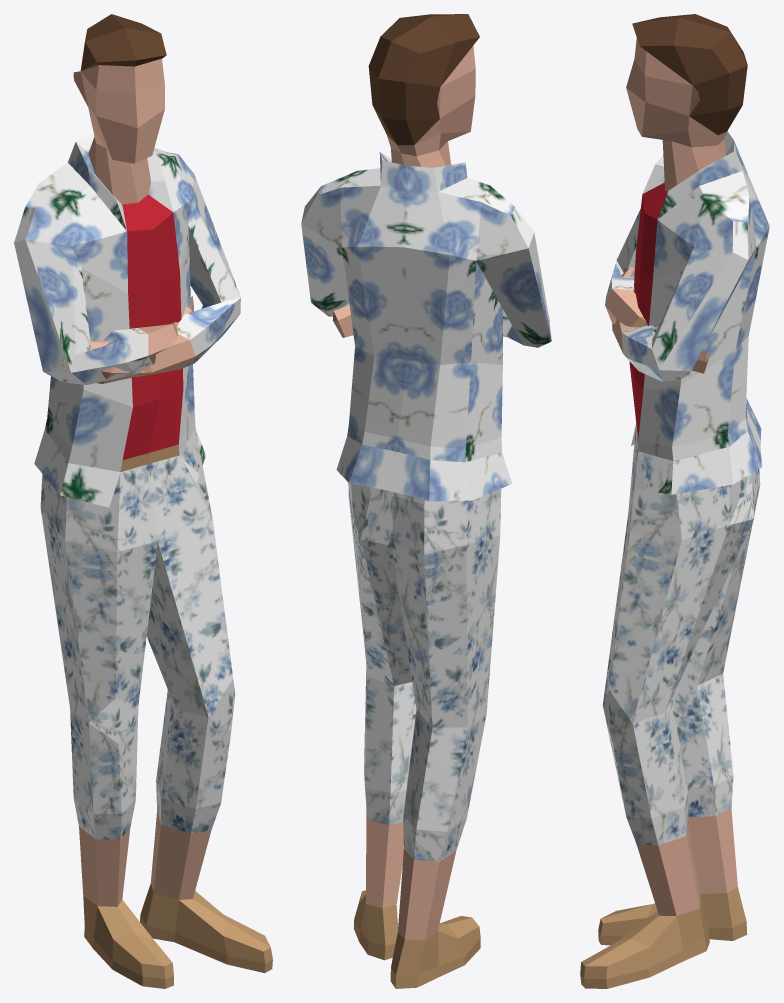
The model's file is SpringManC.002.glb.
3 renders of one model, left to right at view 1: azimuth 30°, elevation 25°; view 2: azimuth 150°, elevation 25°; view 3: azimuth 270°, elevation 25°, orthographic. The views are drawn at different scales.
Visible parts, largest first — view 1: SpringManC.002; view 2: SpringManC.002; view 3: SpringManC.002.
Boxes of the visible parts, x1=… form: SpringManC.002: x1=14, y1=14, x2=272, y2=988; SpringManC.002: x1=301, y1=14, x2=551, y2=988; SpringManC.002: x1=580, y1=14, x2=769, y2=988.
Bounding box in the file's own units: 0.4207 × 1.75 × 0.3249.
1 material, 1 textured.
